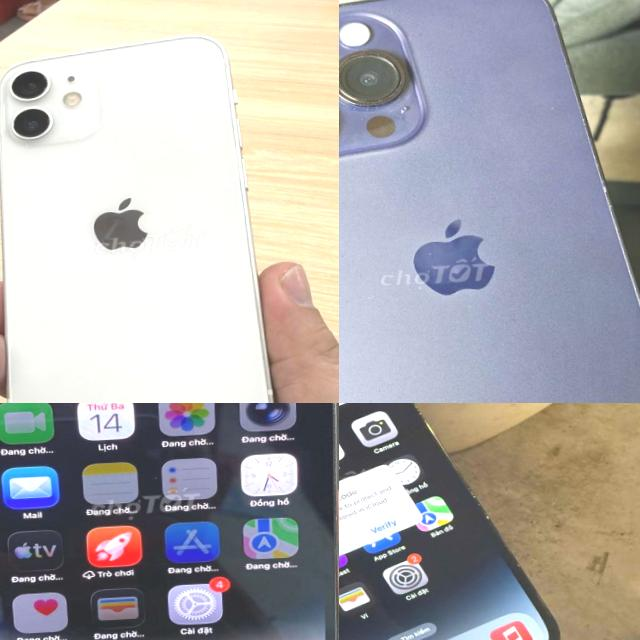gen_12_13: (0, 34, 282, 403)
gen_14: (339, 0, 640, 403), (0, 403, 339, 640), (339, 403, 568, 640)
scratch: (339, 44, 418, 126), (406, 241, 444, 301), (626, 357, 640, 403)
